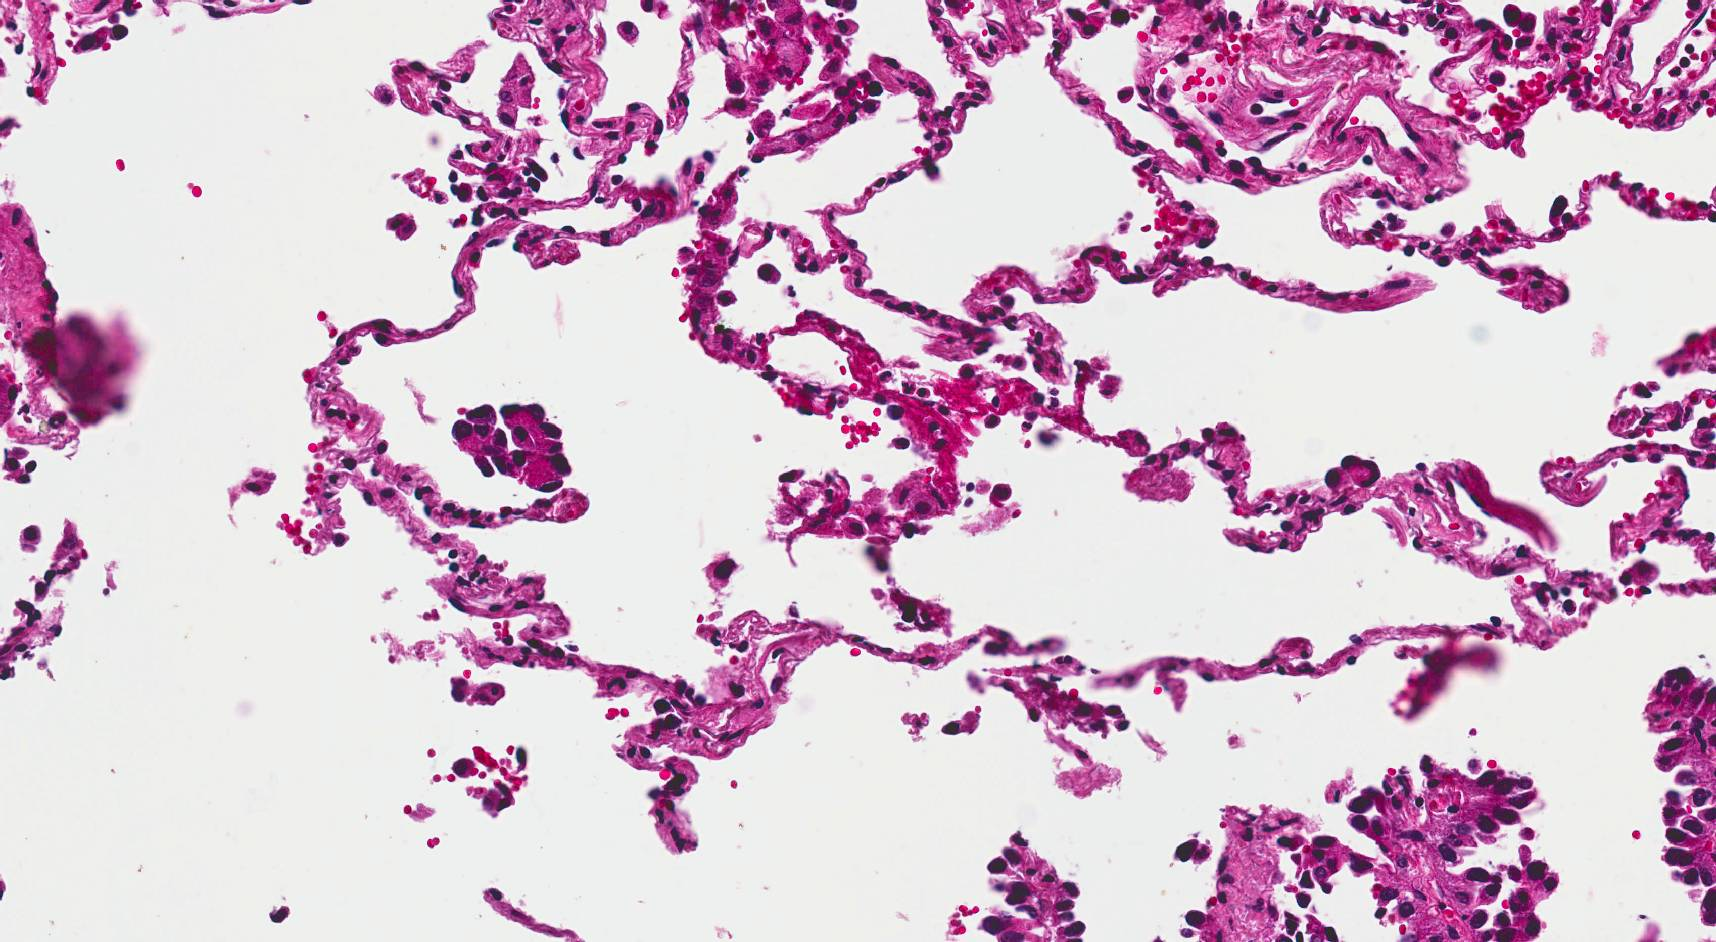stas: (449, 398, 573, 493)
